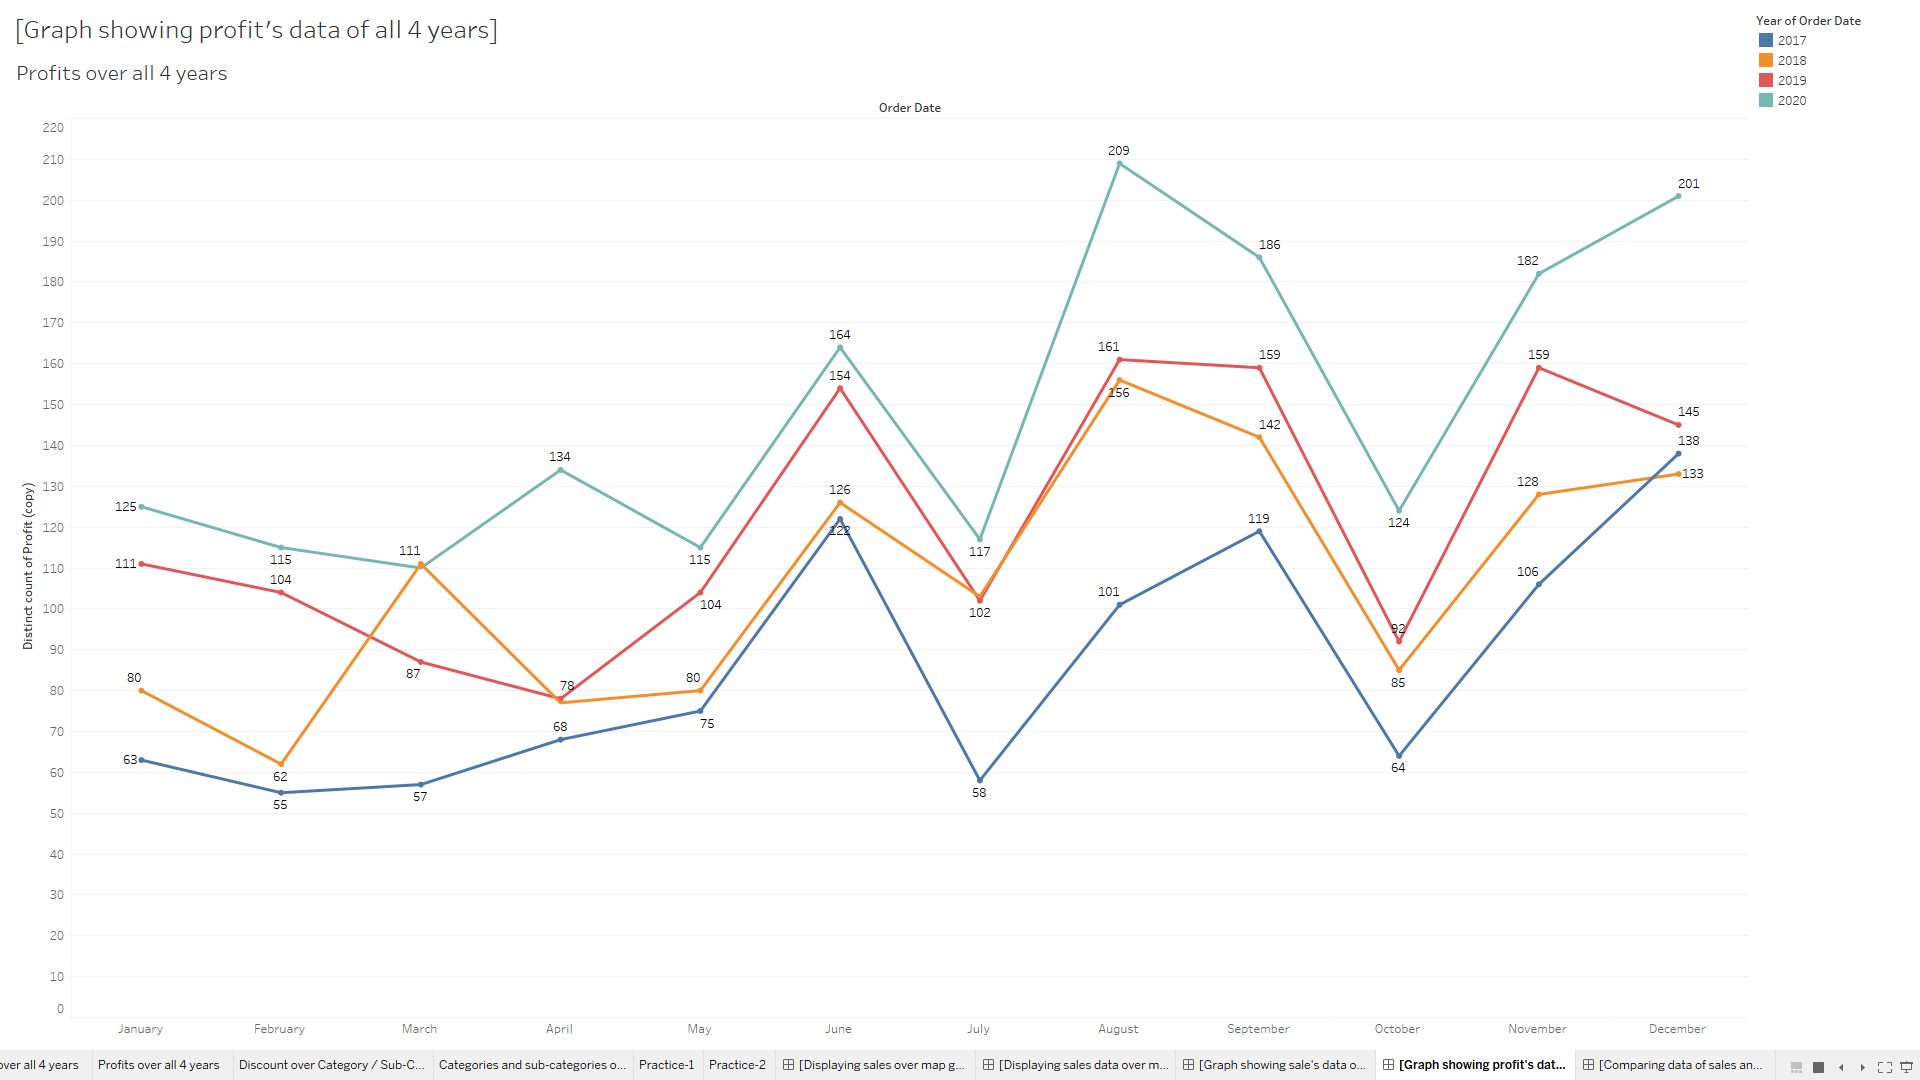

This screenshot's page, from the dashboard's own definition file:
{"tool":"tableau","page":{"name":"[Graph showing profit's data of all 4 years]","canvas":[1000,1000],"units":"permille","ordinal":3},"visuals":[{"type":"title","box":[5,8.8,990,46.5]},{"type":"worksheet","title":"Profits over all 4 years","mark":"Automatic","rows":["Profit (copy)_855965427656007680"],"cols":["Order Date"],"box":[5,55.3,990,935.8]}]}

Visuals, with their boxes on the dashboard's canvas, which has no fixed pixel size, in thousandths of its width and height (x1, y1, x2, y2). These are canvas units, not pixel positions in the 1920x1080 screenshot, which may show the page scaled, cropped or inside an application window:
title: <region>5, 9, 995, 55</region>
"Profits over all 4 years" worksheet: <region>5, 55, 995, 991</region>
